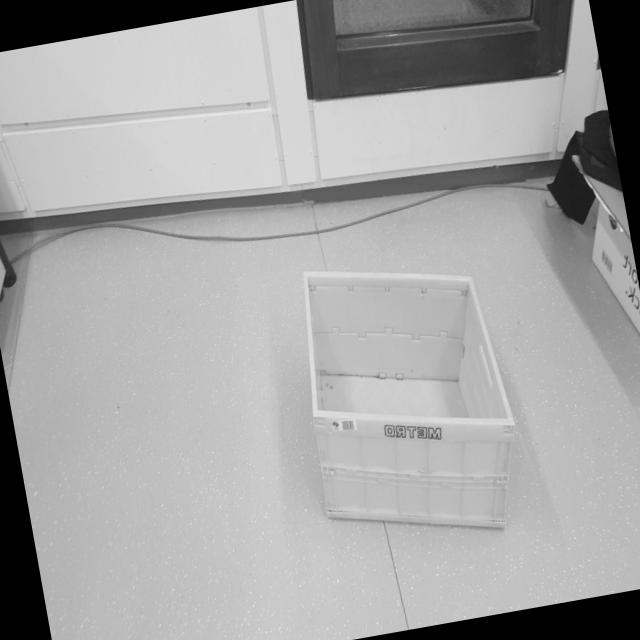box: (267, 231, 544, 564)
